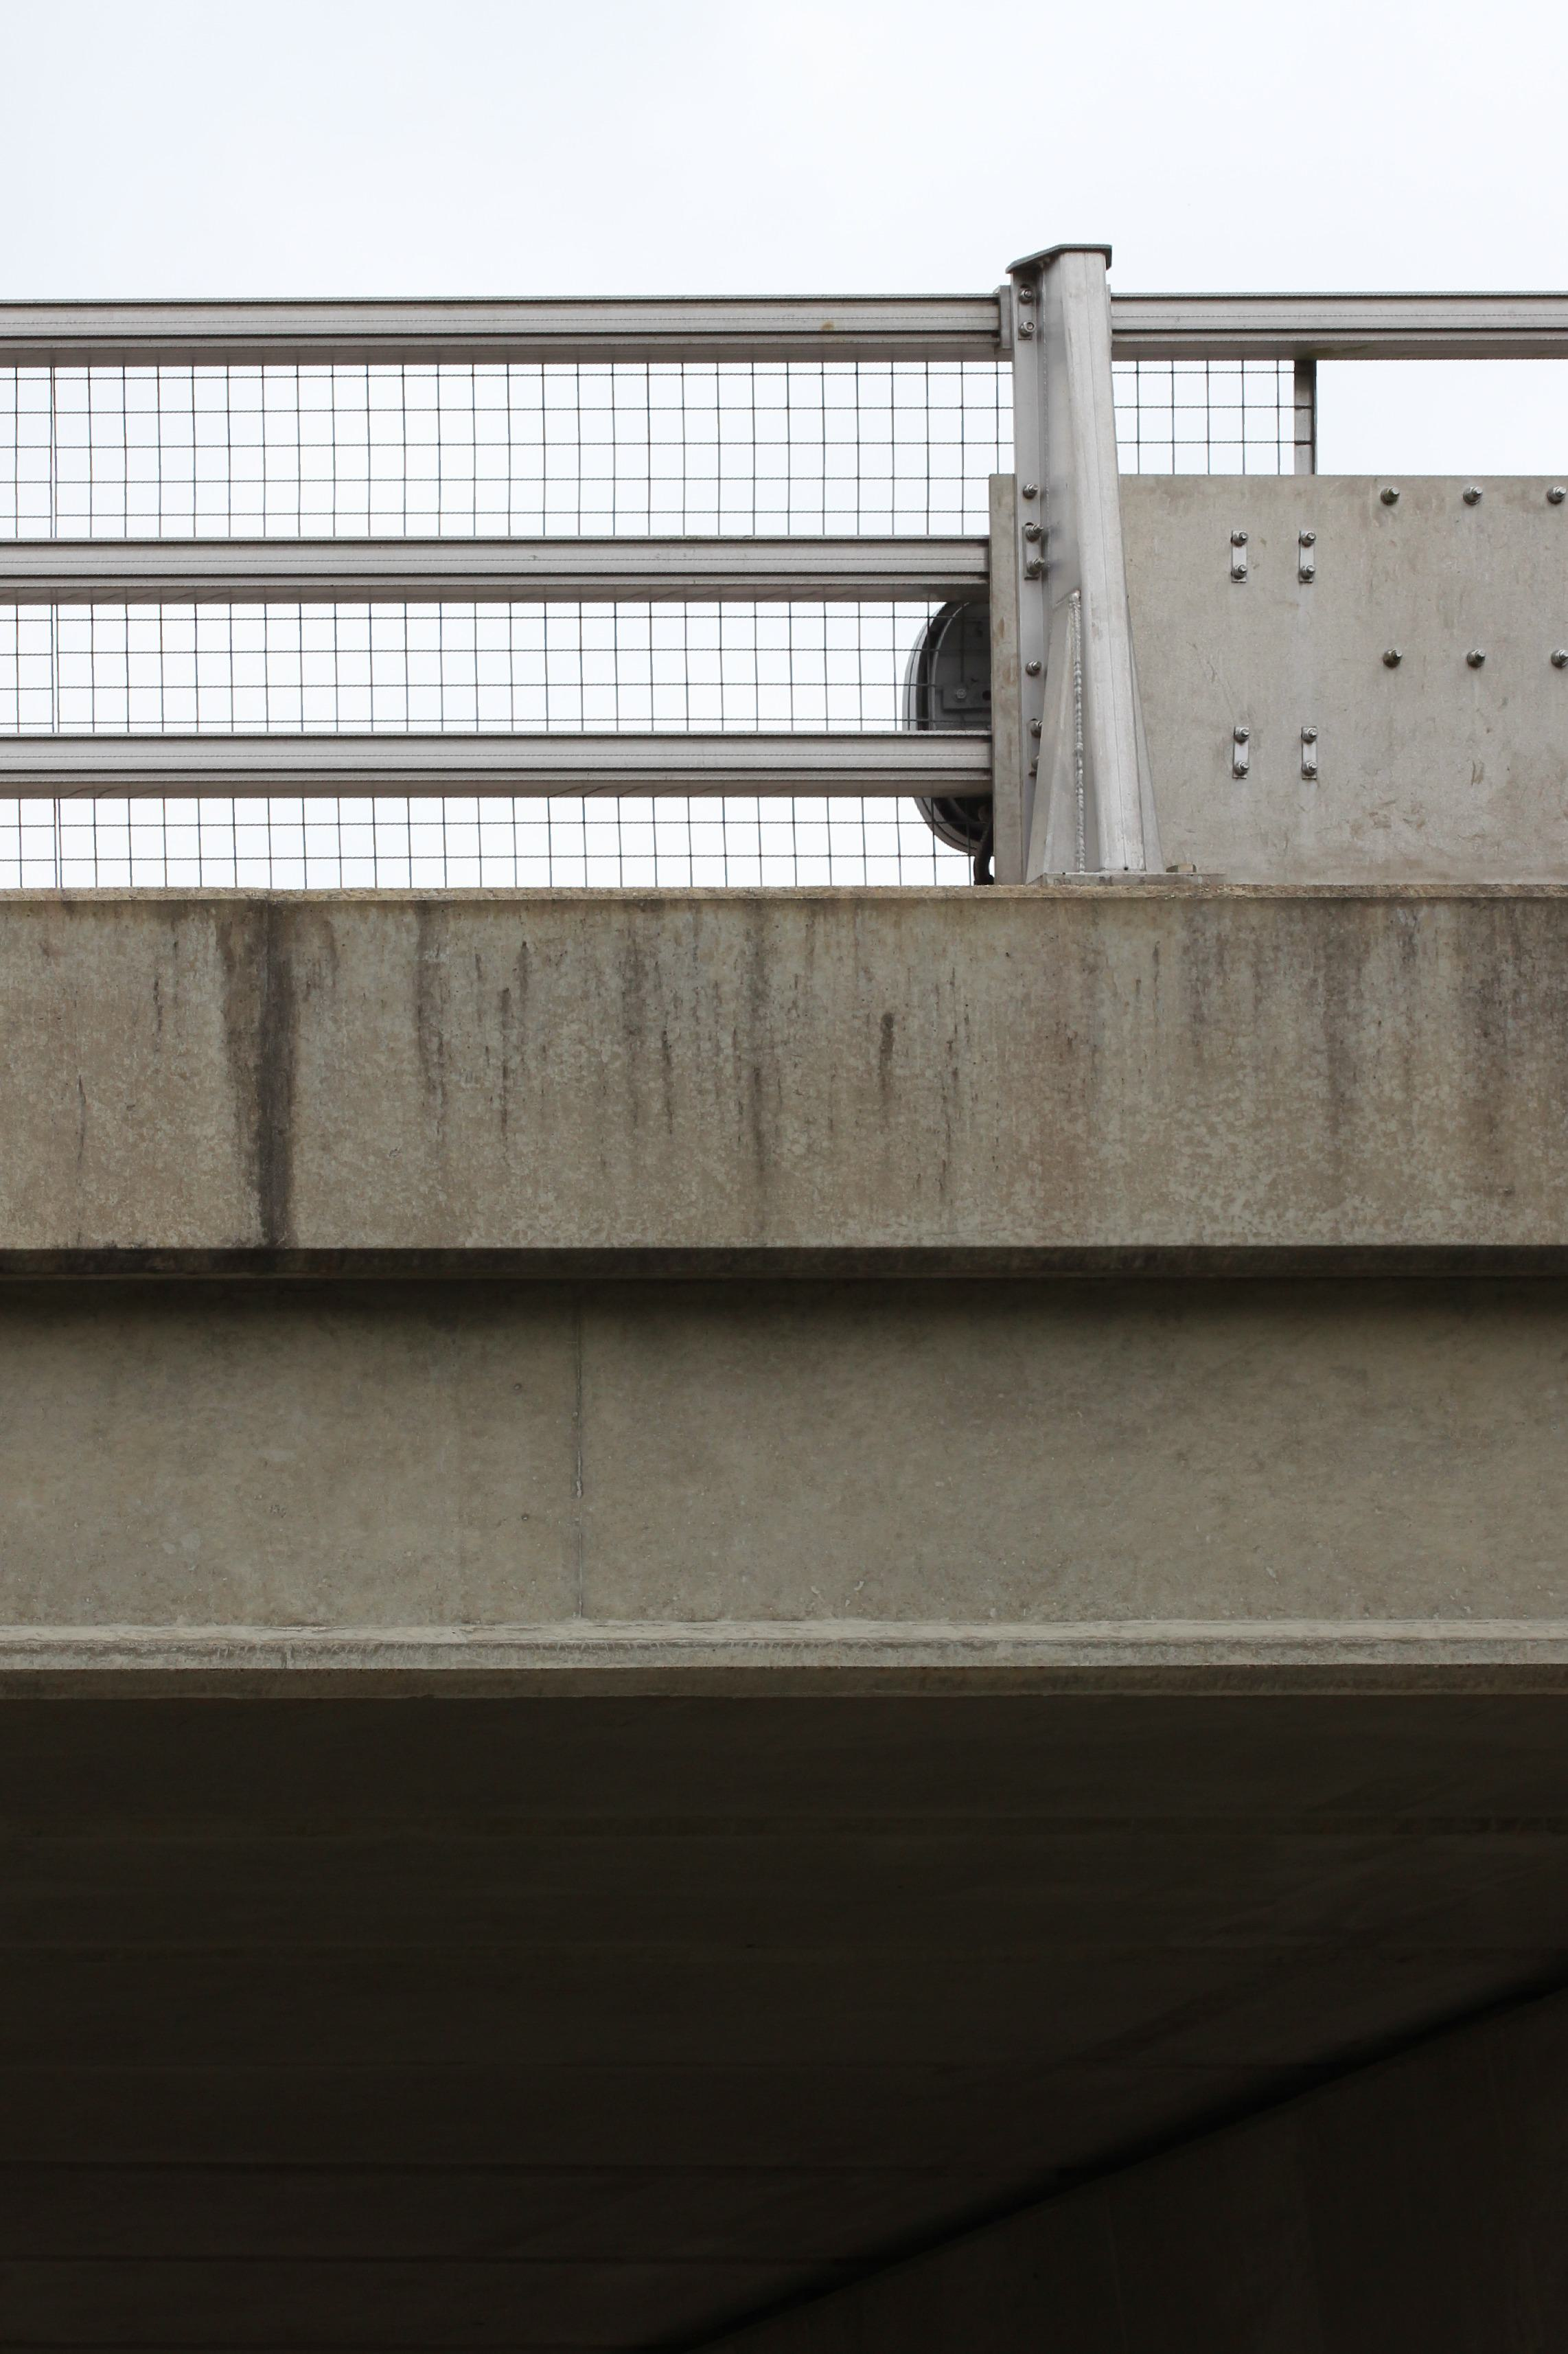Corrosion: (213, 889, 311, 1246)
